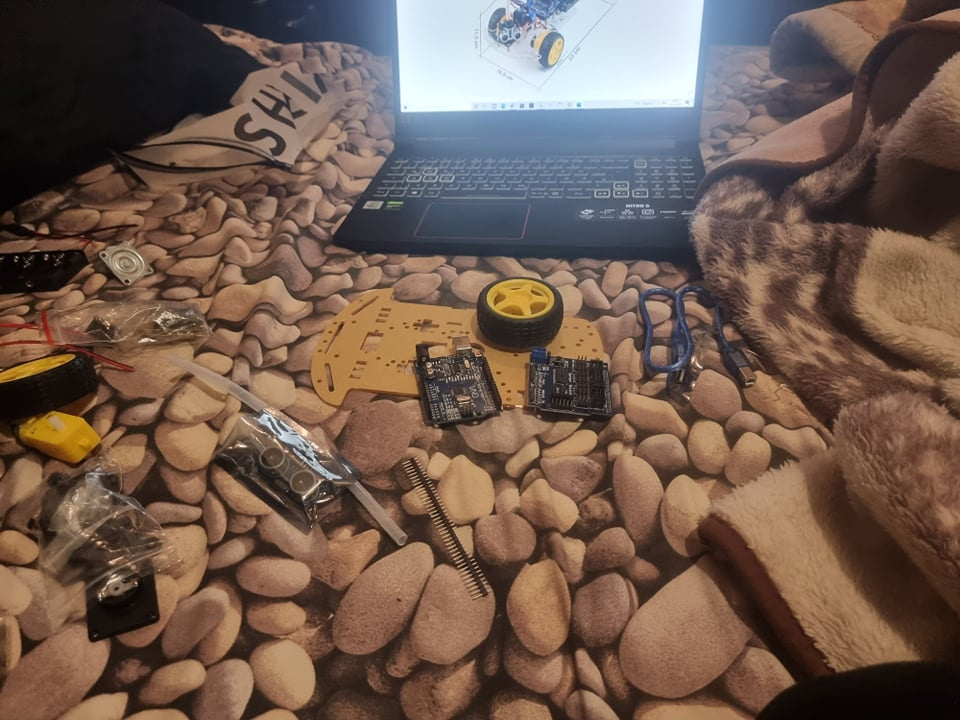5V EXPANSION: (525, 346, 613, 422)
BATTERY BOX: (1, 246, 86, 292)
SENSOR: (259, 442, 320, 505), (499, 28, 523, 43)
UNO R3: (416, 335, 503, 426)
